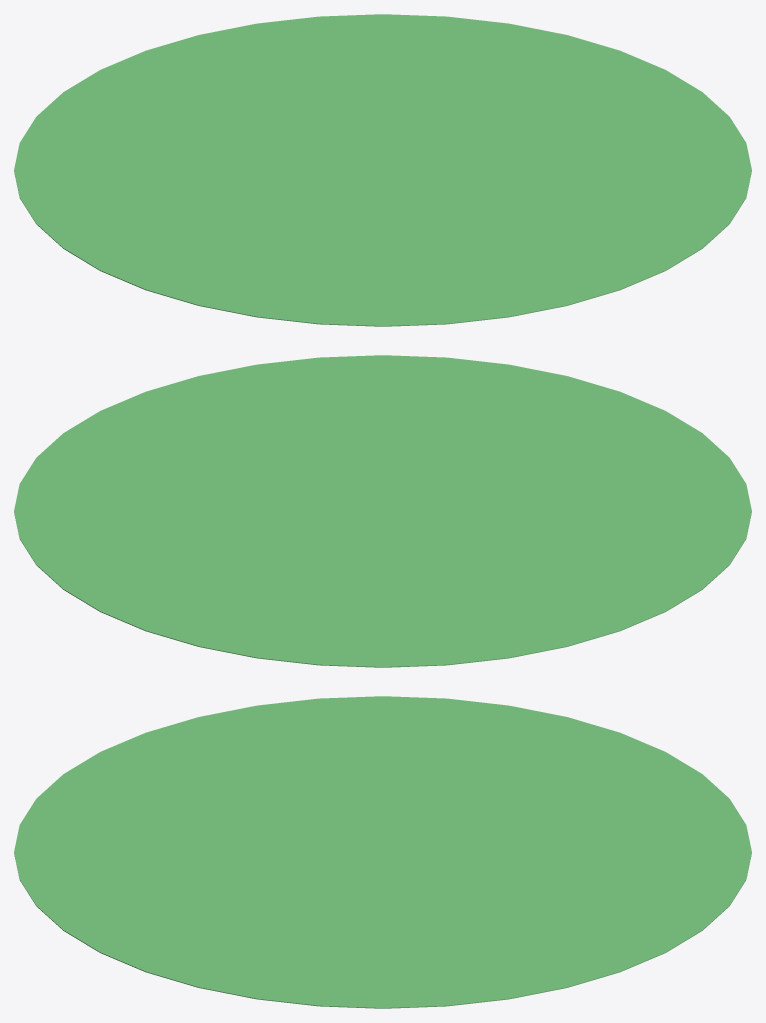
File: Parkour_Ground.fbx
3 views of the same model, one above another, from view 1: azimuth 30°, elevation 25°; view 2: azimuth 150°, elevation 25°; view 3: azimuth 270°, elevation 25° (orthographic).
Parts seen in each view (by area): view 1: Ground; view 2: Ground; view 3: Ground.
Part boxes in pixels (<box>): Ground: <box>14,14,751,326</box>; Ground: <box>14,355,751,667</box>; Ground: <box>14,696,751,1008</box>.
Bounding box in the file's own units: 180 × 0.2 × 180.
